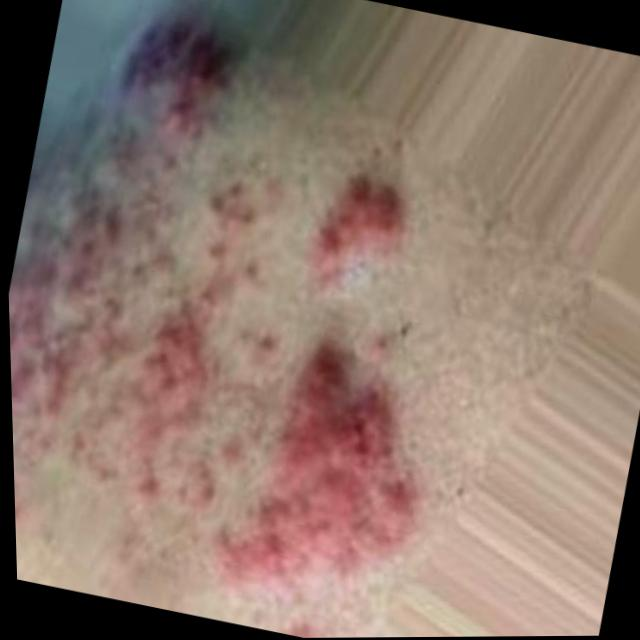Shingles: (0, 0, 309, 523), (248, 364, 431, 587), (334, 175, 413, 278)
